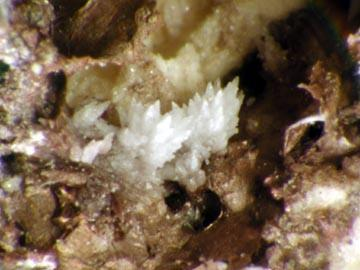calcite: (112, 79, 243, 192)
